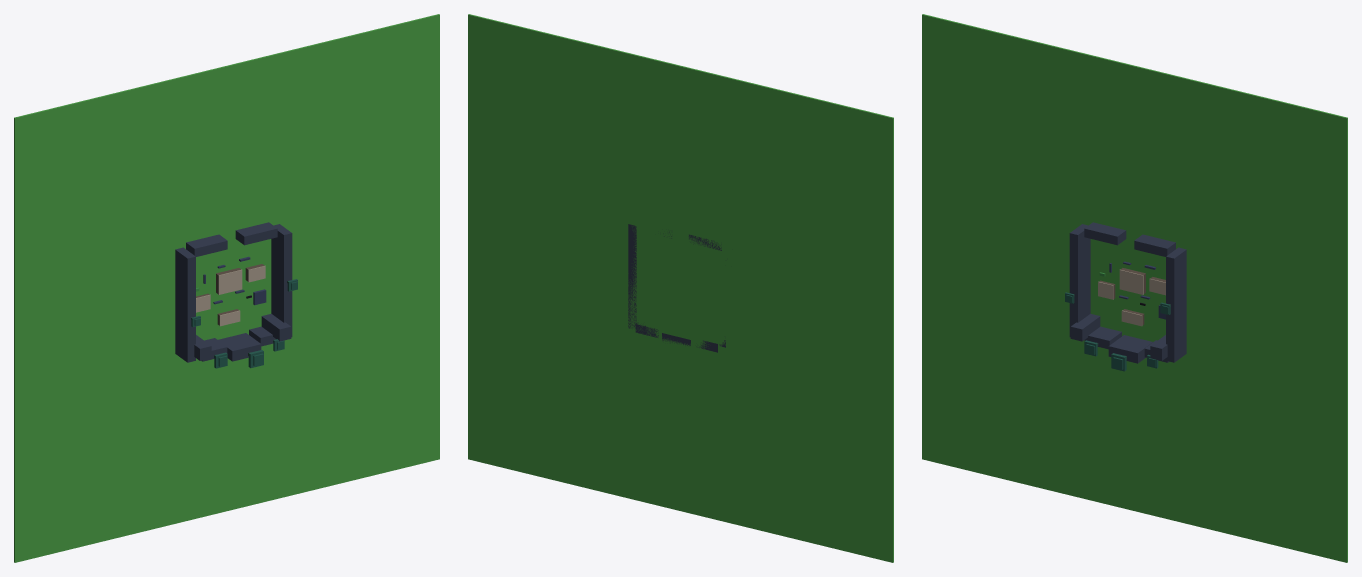
Rendered from low_poly_arena.obj.
The picture shows the model from 3 angles, left to right: view 1: azimuth 30°, elevation 25°; view 2: azimuth 150°, elevation 25°; view 3: azimuth 330°, elevation 25°; orthographic projection.
Parts seen in each view (by area): view 1: Ground, RockDark, RockTop, Leaf; view 2: Ground, RockDark; view 3: Ground, RockDark, RockTop, Leaf.
Part boxes in pixels (x1,y1,x2,y2): Ground: [14, 14, 439, 562]; RockDark: [175, 222, 292, 362]; RockTop: [196, 265, 265, 326]; Leaf: [191, 279, 297, 368]; Ground: [468, 14, 893, 562]; RockDark: [628, 224, 725, 352]; Ground: [922, 14, 1347, 562]; RockDark: [1069, 222, 1186, 363]; RockTop: [1098, 269, 1165, 326]; Leaf: [1065, 292, 1170, 371].
Bounding box in the file's own units: 512 × 512 × 52.4.
